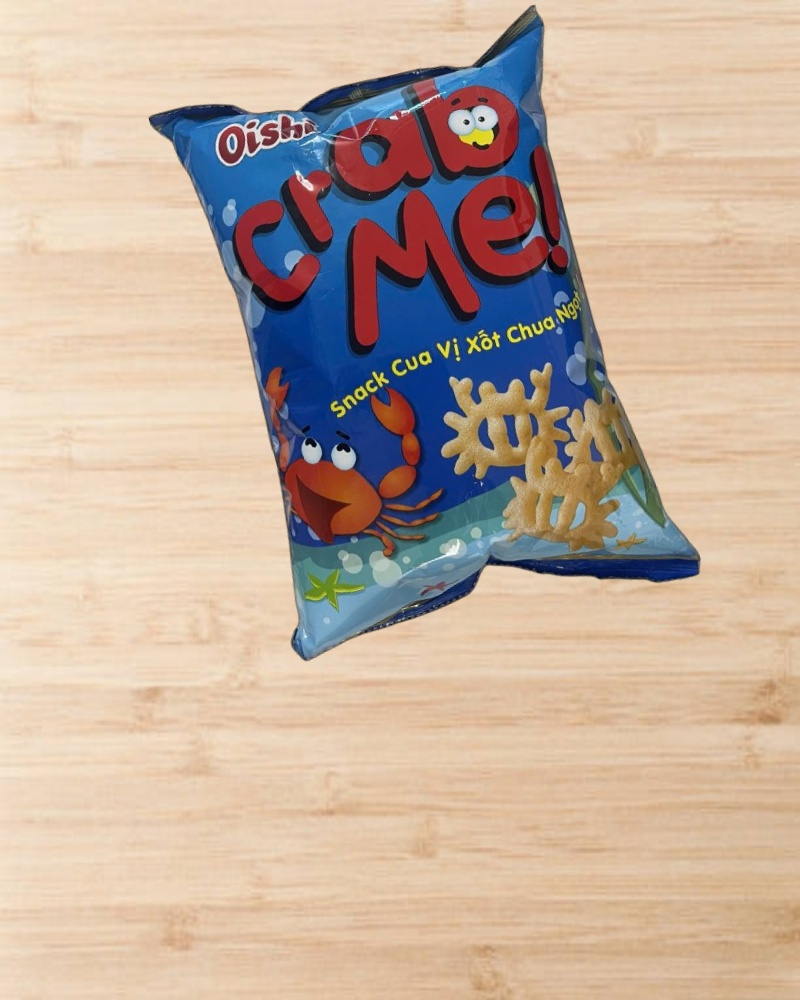Snack cua: (147, 1, 703, 675)
